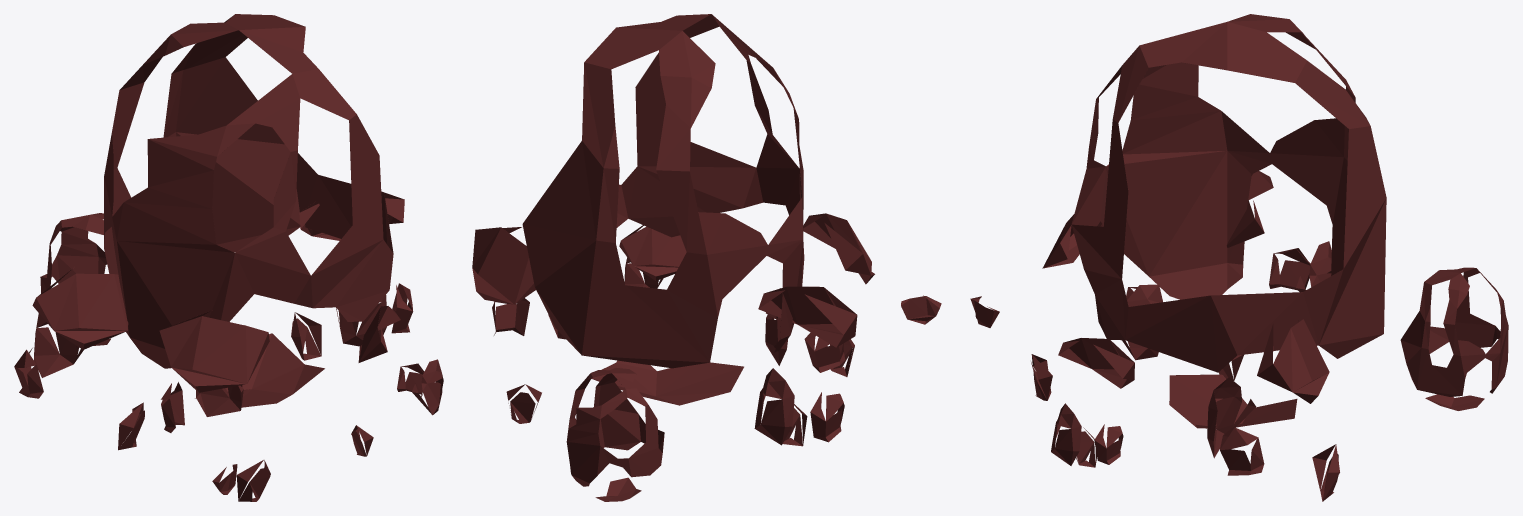
The model's file is Mine_02_Light_01.FBX.
3 views of the same model, side by side, from view 1: azimuth 30°, elevation 25°; view 2: azimuth 150°, elevation 25°; view 3: azimuth 270°, elevation 25° (orthographic). The views are drawn at different scales.
Visible parts, largest first — view 1: Mine_02_Light_01; view 2: Mine_02_Light_01; view 3: Mine_02_Light_01.
Part boxes in pixels (x1,y1,x2,y2): Mine_02_Light_01: [14, 14, 443, 501]; Mine_02_Light_01: [472, 14, 941, 501]; Mine_02_Light_01: [970, 14, 1508, 501].
Size of the model in its own units: 12.95 by 12.8 by 15.07.
